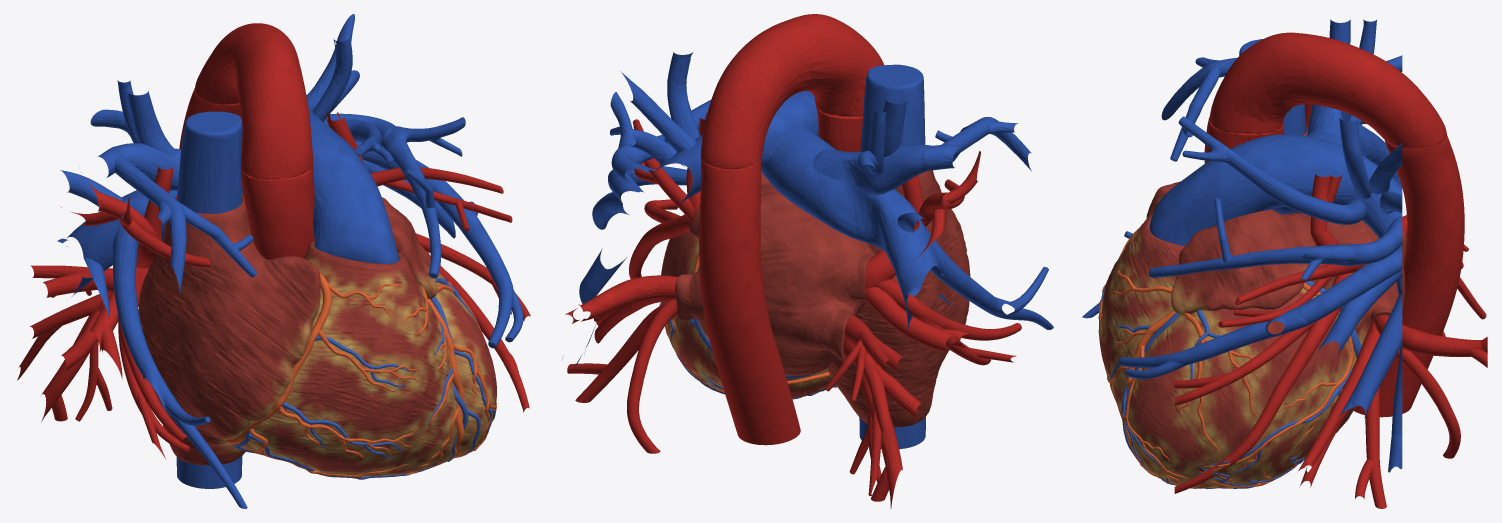
The model's file is heart.glb.
3 renders of one model, left to right at view 1: azimuth 30°, elevation 25°; view 2: azimuth 150°, elevation 25°; view 3: azimuth 270°, elevation 25°, orthographic. The views are drawn at different scales.
Parts seen in each view (by area): view 1: wall, pulm_artery, pulm_vein, aorta, cor_art, svc, cor_vein, ivc; view 2: aorta, pulm_artery, wall, pulm_vein, svc, ivc, cor_vein; view 3: wall, pulm_artery, aorta, pulm_vein, cor_art, cor_vein, svc.
Part boxes in pixels (box(x1,y1,x2,y2)): wall: box(138, 194, 496, 476); pulm_artery: box(57, 14, 523, 508); pulm_vein: box(17, 112, 530, 458); aorta: box(179, 23, 314, 259); cor_art: box(226, 273, 496, 478); svc: box(177, 111, 242, 213); cor_vein: box(232, 277, 494, 479); ivc: box(176, 456, 242, 488); aorta: box(699, 14, 884, 445); pulm_artery: box(562, 52, 1053, 367); wall: box(661, 170, 970, 427); pulm_vein: box(565, 113, 1021, 508); svc: box(860, 64, 925, 167); ivc: box(859, 417, 925, 449); cor_vein: box(659, 266, 837, 399); wall: box(1098, 125, 1406, 488); pulm_artery: box(1082, 19, 1402, 472); aorta: box(1204, 32, 1464, 417); pulm_vein: box(1174, 104, 1487, 508); cor_art: box(1099, 228, 1353, 488); cor_vein: box(1098, 279, 1361, 488); svc: box(1239, 39, 1306, 135).
Bounding box in the file's own units: 0.3625 × 0.3877 × 0.356.
